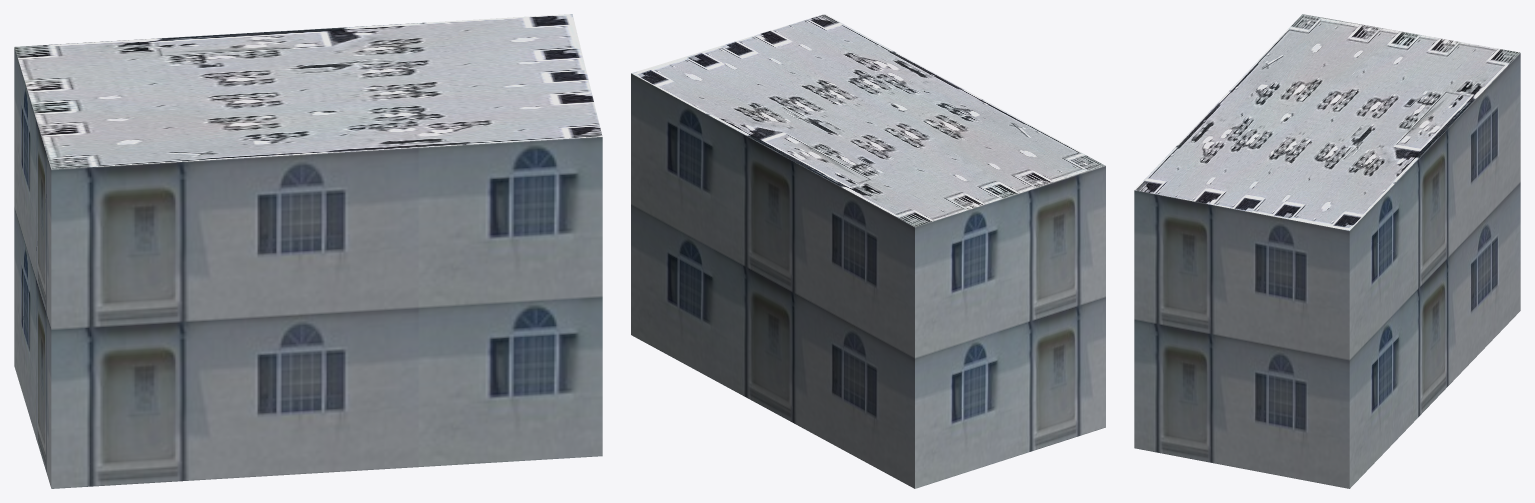
The model's file is ResTex__2082.fbx.
3 views of the same model, side by side, from view 1: azimuth 30°, elevation 25°; view 2: azimuth 150°, elevation 25°; view 3: azimuth 270°, elevation 25° (orthographic). The views are drawn at different scales.
Parts seen in each view (by area): view 1: CityEngineMaterial_17_m, CityEngineMaterial_8_m; view 2: CityEngineMaterial_17_m, CityEngineMaterial_8_m; view 3: CityEngineMaterial_17_m, CityEngineMaterial_8_m.
Part boxes in pixels (x1=…): CityEngineMaterial_17_m: x1=14, y1=47, x2=602, y2=488; CityEngineMaterial_8_m: x1=14, y1=14, x2=602, y2=169; CityEngineMaterial_17_m: x1=631, y1=73, x2=1105, y2=488; CityEngineMaterial_8_m: x1=631, y1=14, x2=1105, y2=226; CityEngineMaterial_17_m: x1=1134, y1=53, x2=1520, y2=488; CityEngineMaterial_8_m: x1=1134, y1=14, x2=1520, y2=230.
Size of the model in its own units: 10.82 by 6 by 8.15.
2 materials, 2 textured.
